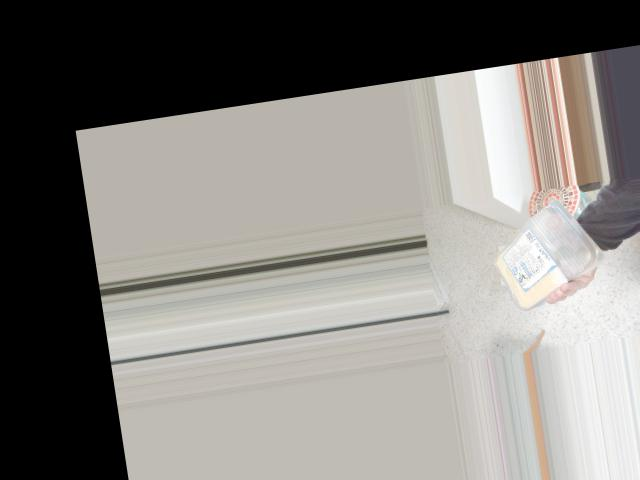cheese: (482, 191, 583, 307)
